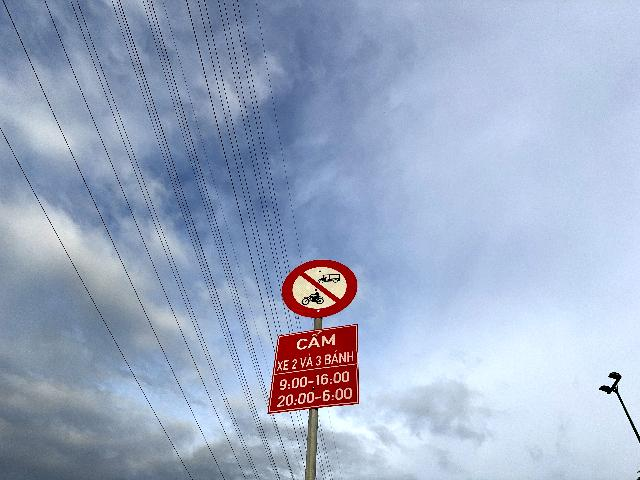cam-xe-2-banh-3-banh: (282, 259, 358, 319)
